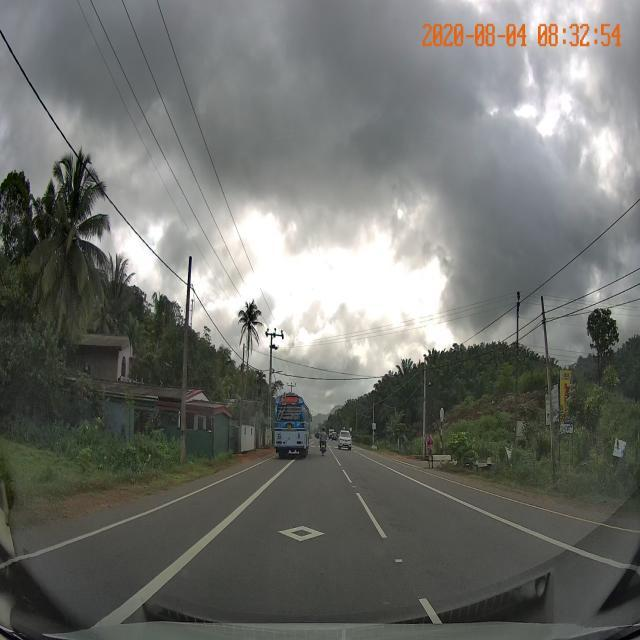diamond: (169, 519, 409, 567)
